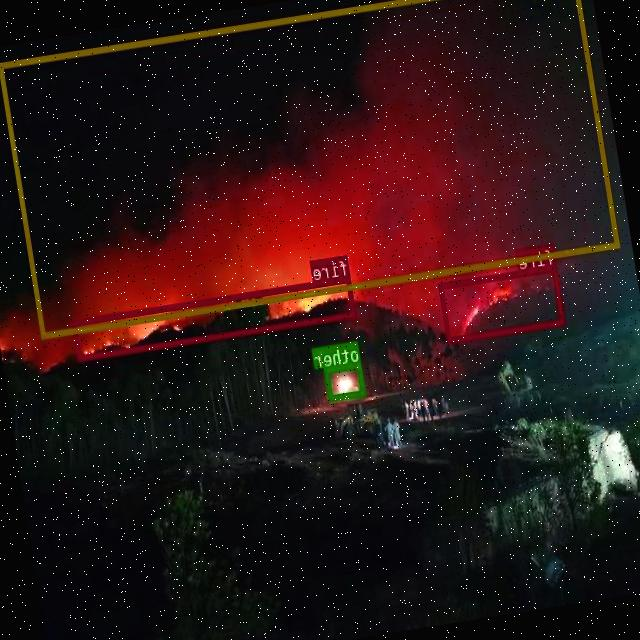fire: (73, 275, 357, 360), (439, 264, 566, 342)
smoke: (0, 0, 620, 337)
